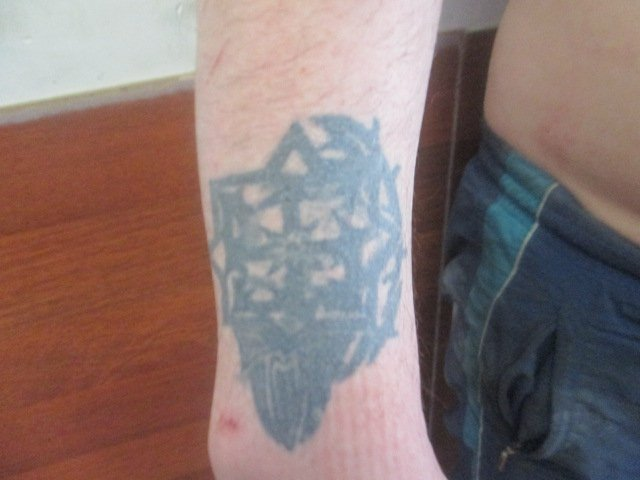tatu4_zvezda: (205, 124, 394, 345)
